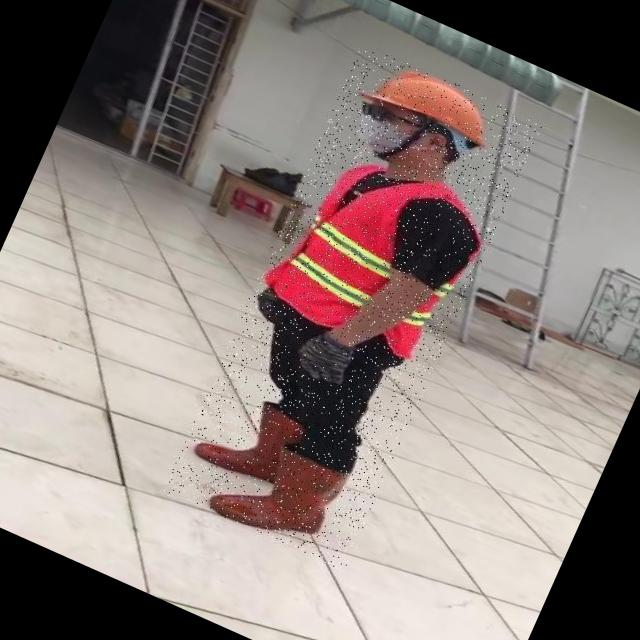hard_hat: (352, 48, 509, 158)
safety_vest: (262, 144, 485, 369)
vehicle: (163, 45, 543, 572)
work_boots: (186, 374, 336, 508), (205, 426, 354, 558)
